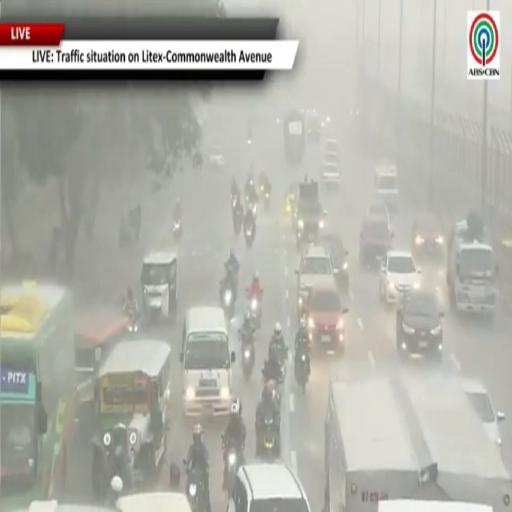car: (227, 462, 310, 511), (396, 290, 443, 360), (296, 245, 337, 315), (307, 286, 348, 354), (463, 378, 504, 445), (379, 250, 420, 303), (320, 234, 349, 293), (116, 489, 191, 511), (360, 218, 393, 265), (411, 214, 444, 258), (375, 165, 399, 212), (16, 501, 111, 511), (366, 200, 390, 226), (320, 162, 340, 187), (307, 109, 321, 140), (209, 147, 224, 169), (324, 139, 339, 154), (324, 152, 339, 164)
jeepney: (92, 340, 170, 497), (75, 307, 128, 433)
motorcycle: (222, 436, 239, 497), (257, 414, 279, 458), (186, 467, 205, 511), (262, 372, 281, 407), (295, 348, 309, 392), (105, 475, 124, 507), (242, 333, 255, 379), (221, 277, 235, 317), (248, 291, 262, 328), (233, 204, 243, 236), (244, 222, 255, 248), (260, 184, 270, 210), (173, 220, 182, 242), (127, 316, 138, 333), (246, 199, 257, 216), (231, 193, 240, 211), (264, 190, 270, 210)
truck: (325, 375, 510, 511), (0, 282, 76, 510), (447, 218, 498, 317), (296, 181, 325, 248), (283, 110, 306, 166), (379, 500, 492, 511)
